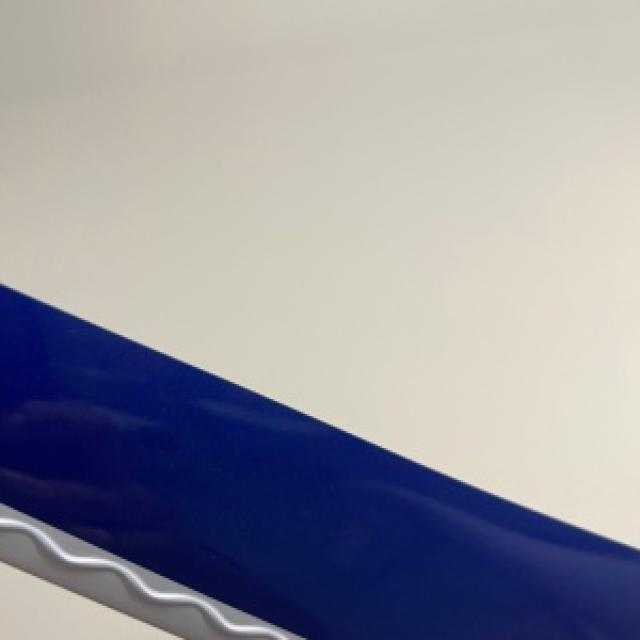healthy: (0, 286, 638, 638)
